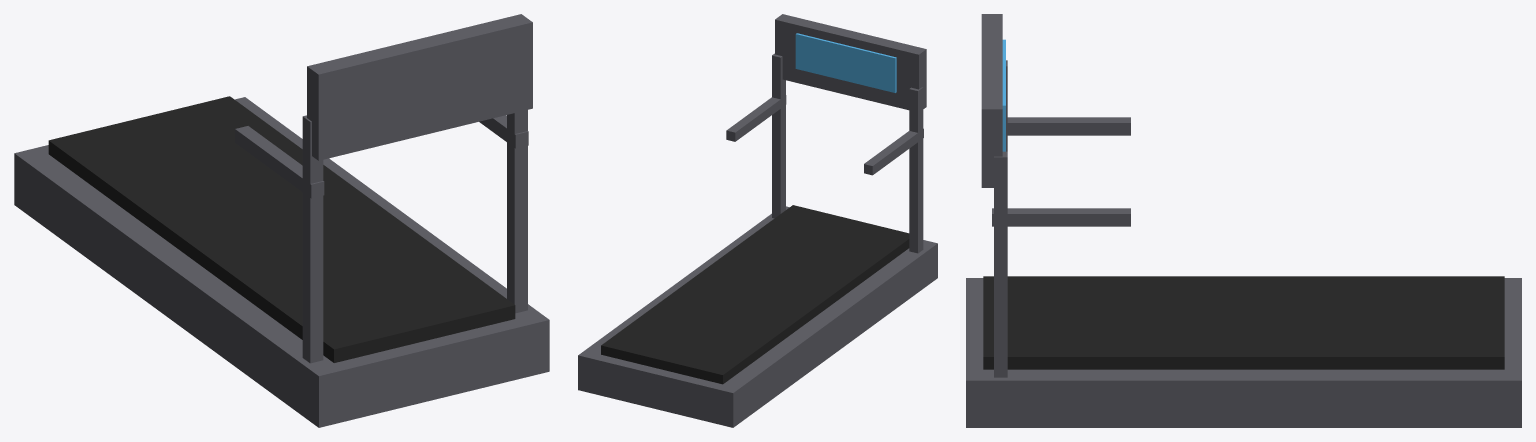
The model's file is Treadmill.fbx.
3 views of the same model, side by side, from view 1: azimuth 30°, elevation 25°; view 2: azimuth 150°, elevation 25°; view 3: azimuth 270°, elevation 25° (orthographic). The views are drawn at different scales.
Parts seen in each view (by area): view 1: Treadmill; view 2: Treadmill; view 3: Treadmill.
Boxes of the visible parts, <box> form: Treadmill: <box>14,14,549,427</box>; Treadmill: <box>578,14,937,427</box>; Treadmill: <box>966,14,1521,427</box>.
Bounding box in the file's own units: 140 × 200 × 320.
